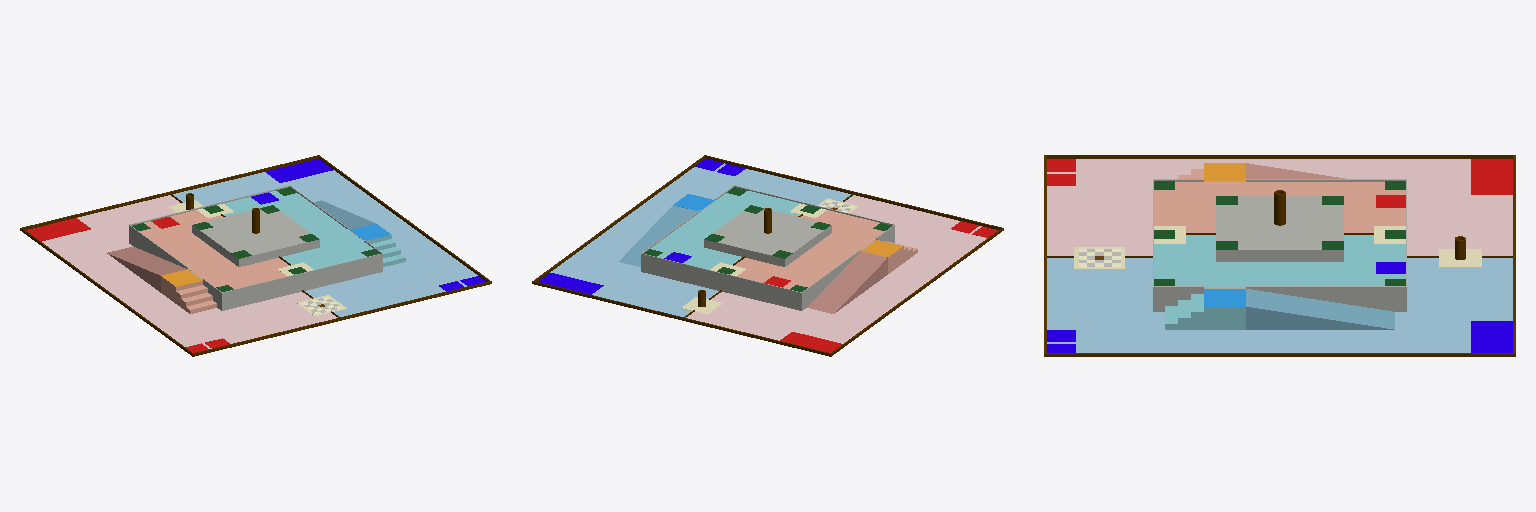
URDF robot description (robocon2027_field):
<?xml version="1.0"?>
<!-- GENERATED by scripts/generate_field.py - edit the script, not this file. -->
<robot name="robocon2027_field">
  <material name="brown"><color rgba="0.3922 0.2431 0.0000 1.0"/></material>
  <material name="grey"><color rgba="0.7451 0.7451 0.7255 1.0"/></material>
  <material name="grid_center"><color rgba="0.4706 0.2941 0.0784 1.0"/></material>
  <material name="grid_grey"><color rgba="0.8039 0.8039 0.7843 1.0"/></material>
  <material name="grid_light"><color rgba="1.0000 0.9882 0.8431 1.0"/></material>
  <material name="ground_blue"><color rgba="0.6667 0.8235 0.9020 1.0"/></material>
  <material name="ground_red"><color rgba="0.9412 0.8235 0.8235 1.0"/></material>
  <material name="l1_blue"><color rgba="0.5882 0.8431 0.8627 1.0"/></material>
  <material name="l1_red"><color rgba="0.9216 0.7059 0.6275 1.0"/></material>
  <material name="ramp_blue"><color rgba="0.5098 0.7059 0.7843 1.0"/></material>
  <material name="ramp_red"><color rgba="0.7843 0.5882 0.5490 1.0"/></material>
  <material name="shared"><color rgba="0.9608 0.9412 0.7843 1.0"/></material>
  <material name="spot"><color rgba="0.1569 0.3922 0.1961 1.0"/></material>
  <material name="stairs_blue"><color rgba="0.5882 0.8431 0.8627 1.0"/></material>
  <material name="stairs_red"><color rgba="0.9216 0.7059 0.6275 1.0"/></material>
  <material name="transfer_blue"><color rgba="0.2353 0.6667 0.9608 1.0"/></material>
  <material name="transfer_red"><color rgba="0.9608 0.6667 0.2353 1.0"/></material>
  <material name="zone_blue"><color rgba="0.1961 0.0000 1.0000 1.0"/></material>
  <material name="zone_red"><color rgba="0.8745 0.1333 0.1333 1.0"/></material>
  <link name="field">
    <visual name="ground_blue"><origin xyz="2.75 0 -0.01" rpy="0 0 0"/><geometry><box size="5.5 11 0.02"/></geometry><material name="ground_blue"/></visual>
    <visual name="ground_red"><origin xyz="-2.75 0 -0.01" rpy="0 0 0"/><geometry><box size="5.5 11 0.02"/></geometry><material name="ground_red"/></visual>
    <visual name="boundary_n"><origin xyz="0 5.525 0.05" rpy="0 0 0"/><geometry><box size="11.1 0.05 0.1"/></geometry><material name="brown"/></visual>
    <visual name="boundary_s"><origin xyz="0 -5.525 0.05" rpy="0 0 0"/><geometry><box size="11.1 0.05 0.1"/></geometry><material name="brown"/></visual>
    <visual name="boundary_e"><origin xyz="5.525 0 0.05" rpy="0 0 0"/><geometry><box size="0.05 11 0.1"/></geometry><material name="brown"/></visual>
    <visual name="boundary_w"><origin xyz="-5.525 0 0.05" rpy="0 0 0"/><geometry><box size="0.05 11 0.1"/></geometry><material name="brown"/></visual>
    <visual name="divider_ground_0"><origin xyz="0 -5.175 0.025" rpy="0 0 0"/><geometry><box size="0.03 0.65 0.05"/></geometry><material name="brown"/></visual>
    <visual name="divider_ground_1"><origin xyz="0 -3.325 0.025" rpy="0 0 0"/><geometry><box size="0.03 0.65 0.05"/></geometry><material name="brown"/></visual>
    <visual name="divider_ground_2"><origin xyz="0 3.375 0.025" rpy="0 0 0"/><geometry><box size="0.03 0.75 0.05"/></geometry><material name="brown"/></visual>
    <visual name="divider_ground_3"><origin xyz="0 5.125 0.025" rpy="0 0 0"/><geometry><box size="0.03 0.75 0.05"/></geometry><material name="brown"/></visual>
    <visual name="startretry_blue_0"><origin xyz="4.35 -5.15 0.001" rpy="0 0 0"/><geometry><box size="0.7 0.7 0.002"/></geometry><material name="zone_blue"/></visual>
    <visual name="startretry_blue_1"><origin xyz="5.15 -5.15 0.001" rpy="0 0 0"/><geometry><box size="0.7 0.7 0.002"/></geometry><material name="zone_blue"/></visual>
    <visual name="storage_blue"><origin xyz="4.5 5 0.001" rpy="0 0 0"/><geometry><box size="2 1 0.002"/></geometry><material name="zone_blue"/></visual>
    <visual name="startretry_red_0"><origin xyz="-4.35 -5.15 0.001" rpy="0 0 0"/><geometry><box size="0.7 0.7 0.002"/></geometry><material name="zone_red"/></visual>
    <visual name="startretry_red_1"><origin xyz="-5.15 -5.15 0.001" rpy="0 0 0"/><geometry><box size="0.7 0.7 0.002"/></geometry><material name="zone_red"/></visual>
    <visual name="storage_red"><origin xyz="-4.5 5 0.001" rpy="0 0 0"/><geometry><box size="2 1 0.002"/></geometry><material name="zone_red"/></visual>
    <visual name="ground_shared"><origin xyz="0 -4.25 0.001" rpy="0 0 0"/><geometry><box size="1.2 1.2 0.002"/></geometry><material name="shared"/></visual>
    <visual name="gsa_cell_11"><origin xyz="-0.4 -3.85 0.002" rpy="0 0 0"/><geometry><box size="0.196 0.196 0.002"/></geometry><material name="grid_light"/></visual>
    <visual name="gsa_cell_12"><origin xyz="-0.2 -3.85 0.002" rpy="0 0 0"/><geometry><box size="0.196 0.196 0.002"/></geometry><material name="grid_grey"/></visual>
    <visual name="gsa_cell_13"><origin xyz="0 -3.85 0.002" rpy="0 0 0"/><geometry><box size="0.196 0.196 0.002"/></geometry><material name="grid_light"/></visual>
    <visual name="gsa_cell_14"><origin xyz="0.2 -3.85 0.002" rpy="0 0 0"/><geometry><box size="0.196 0.196 0.002"/></geometry><material name="grid_grey"/></visual>
    <visual name="gsa_cell_15"><origin xyz="0.4 -3.85 0.002" rpy="0 0 0"/><geometry><box size="0.196 0.196 0.002"/></geometry><material name="grid_light"/></visual>
    <visual name="gsa_cell_21"><origin xyz="-0.4 -4.05 0.002" rpy="0 0 0"/><geometry><box size="0.196 0.196 0.002"/></geometry><material name="grid_grey"/></visual>
    <visual name="gsa_cell_22"><origin xyz="-0.2 -4.05 0.002" rpy="0 0 0"/><geometry><box size="0.196 0.196 0.002"/></geometry><material name="grid_light"/></visual>
    <visual name="gsa_cell_23"><origin xyz="0 -4.05 0.002" rpy="0 0 0"/><geometry><box size="0.196 0.196 0.002"/></geometry><material name="grid_grey"/></visual>
    <visual name="gsa_cell_24"><origin xyz="0.2 -4.05 0.002" rpy="0 0 0"/><geometry><box size="0.196 0.196 0.002"/></geometry><material name="grid_light"/></visual>
    <visual name="gsa_cell_25"><origin xyz="0.4 -4.05 0.002" rpy="0 0 0"/><geometry><box size="0.196 0.196 0.002"/></geometry><material name="grid_grey"/></visual>
    <visual name="gsa_cell_31"><origin xyz="-0.4 -4.25 0.002" rpy="0 0 0"/><geometry><box size="0.196 0.196 0.002"/></geometry><material name="grid_light"/></visual>
    <visual name="gsa_cell_32"><origin xyz="-0.2 -4.25 0.002" rpy="0 0 0"/><geometry><box size="0.196 0.196 0.002"/></geometry><material name="grid_grey"/></visual>
    <visual name="gsa_cell_33"><origin xyz="0 -4.25 0.002" rpy="0 0 0"/><geometry><box size="0.196 0.196 0.002"/></geometry><material name="grid_center"/></visual>
    <visual name="gsa_cell_34"><origin xyz="0.2 -4.25 0.002" rpy="0 0 0"/><geometry><box size="0.196 0.196 0.002"/></geometry><material name="grid_grey"/></visual>
    <visual name="gsa_cell_35"><origin xyz="0.4 -4.25 0.002" rpy="0 0 0"/><geometry><box size="0.196 0.196 0.002"/></geometry><material name="grid_light"/></visual>
    <visual name="gsa_cell_41"><origin xyz="-0.4 -4.45 0.002" rpy="0 0 0"/><geometry><box size="0.196 0.196 0.002"/></geometry><material name="grid_grey"/></visual>
    <visual name="gsa_cell_42"><origin xyz="-0.2 -4.45 0.002" rpy="0 0 0"/><geometry><box size="0.196 0.196 0.002"/></geometry><material name="grid_light"/></visual>
    <visual name="gsa_cell_43"><origin xyz="0 -4.45 0.002" rpy="0 0 0"/><geometry><box size="0.196 0.196 0.002"/></geometry><material name="grid_grey"/></visual>
    <visual name="gsa_cell_44"><origin xyz="0.2 -4.45 0.002" rpy="0 0 0"/><geometry><box size="0.196 0.196 0.002"/></geometry><material name="grid_light"/></visual>
    <visual name="gsa_cell_45"><origin xyz="0.4 -4.45 0.002" rpy="0 0 0"/><geometry><box size="0.196 0.196 0.002"/></geometry><material name="grid_grey"/></visual>
    <visual name="gsa_cell_51"><origin xyz="-0.4 -4.65 0.002" rpy="0 0 0"/><geometry><box size="0.196 0.196 0.002"/></geometry><material name="grid_light"/></visual>
    <visual name="gsa_cell_52"><origin xyz="-0.2 -4.65 0.002" rpy="0 0 0"/><geometry><box size="0.196 0.196 0.002"/></geometry><material name="grid_grey"/></visual>
    <visual name="gsa_cell_53"><origin xyz="0 -4.65 0.002" rpy="0 0 0"/><geometry><box size="0.196 0.196 0.002"/></geometry><material name="grid_light"/></visual>
    <visual name="gsa_cell_54"><origin xyz="0.2 -4.65 0.002" rpy="0 0 0"/><geometry><box size="0.196 0.196 0.002"/></geometry><material name="grid_grey"/></visual>
    <visual name="gsa_cell_55"><origin xyz="0.4 -4.65 0.002" rpy="0 0 0"/><geometry><box size="0.196 0.196 0.002"/></geometry><material name="grid_light"/></visual>
    <visual name="mustika_area"><origin xyz="0 4.25 0.001" rpy="0 0 0"/><geometry><box size="1 1 0.002"/></geometry><material name="shared"/></visual>
    <visual name="mustika_pillar_body"><origin xyz="0 4.25 0.2" rpy="0 0 0"/><geometry><cylinder radius="0.135" length="0.4"/></geometry><material name="brown"/></visual>
    <visual name="mustika_pillar_rim_00"><origin xyz="0.1125 4.25 0.45" rpy="0 0 0"/><geometry><box size="0.045 0.03724 0.1"/></geometry><material name="brown"/></visual>
    <visual name="mustika_pillar_rim_01"><origin xyz="0.10867 4.27912 0.45" rpy="0 0 0.2618"/><geometry><box size="0.045 0.03724 0.1"/></geometry><material name="brown"/></visual>
    <visual name="mustika_pillar_rim_02"><origin xyz="0.09743 4.30625 0.45" rpy="0 0 0.5236"/><geometry><box size="0.045 0.03724 0.1"/></geometry><material name="brown"/></visual>
    <visual name="mustika_pillar_rim_03"><origin xyz="0.07955 4.32955 0.45" rpy="0 0 0.7854"/><geometry><box size="0.045 0.03724 0.1"/></geometry><material name="brown"/></visual>
    <visual name="mustika_pillar_rim_04"><origin xyz="0.05625 4.34743 0.45" rpy="0 0 1.0472"/><geometry><box size="0.045 0.03724 0.1"/></geometry><material name="brown"/></visual>
    <visual name="mustika_pillar_rim_05"><origin xyz="0.02912 4.35867 0.45" rpy="0 0 1.309"/><geometry><box size="0.045 0.03724 0.1"/></geometry><material name="brown"/></visual>
    <visual name="mustika_pillar_rim_06"><origin xyz="0 4.3625 0.45" rpy="0 0 1.5708"/><geometry><box size="0.045 0.03724 0.1"/></geometry><material name="brown"/></visual>
    <visual name="mustika_pillar_rim_07"><origin xyz="-0.02912 4.35867 0.45" rpy="0 0 1.8326"/><geometry><box size="0.045 0.03724 0.1"/></geometry><material name="brown"/></visual>
    <visual name="mustika_pillar_rim_08"><origin xyz="-0.05625 4.34743 0.45" rpy="0 0 2.0944"/><geometry><box size="0.045 0.03724 0.1"/></geometry><material name="brown"/></visual>
    <visual name="mustika_pillar_rim_09"><origin xyz="-0.07955 4.32955 0.45" rpy="0 0 2.35619"/><geometry><box size="0.045 0.03724 0.1"/></geometry><material name="brown"/></visual>
    <visual name="mustika_pillar_rim_10"><origin xyz="-0.09743 4.30625 0.45" rpy="0 0 2.61799"/><geometry><box size="0.045 0.03724 0.1"/></geometry><material name="brown"/></visual>
    <visual name="mustika_pillar_rim_11"><origin xyz="-0.10867 4.27912 0.45" rpy="0 0 2.87979"/><geometry><box size="0.045 0.03724 0.1"/></geometry><material name="brown"/></visual>
    <visual name="mustika_pillar_rim_12"><origin xyz="-0.1125 4.25 0.45" rpy="0 0 3.14159"/><geometry><box size="0.045 0.03724 0.1"/></geometry><material name="brown"/></visual>
    <visual name="mustika_pillar_rim_13"><origin xyz="-0.10867 4.22088 0.45" rpy="0 0 3.40339"/><geometry><box size="0.045 0.03724 0.1"/></geometry><material name="brown"/></visual>
    <visual name="mustika_pillar_rim_14"><origin xyz="-0.09743 4.19375 0.45" rpy="0 0 3.66519"/><geometry><box size="0.045 0.03724 0.1"/></geometry><material name="brown"/></visual>
    <visual name="mustika_pillar_rim_15"><origin xyz="-0.07955 4.17045 0.45" rpy="0 0 3.92699"/><geometry><box size="0.045 0.03724 0.1"/></geometry><material name="brown"/></visual>
    <visual name="mustika_pillar_rim_16"><origin xyz="-0.05625 4.15257 0.45" rpy="0 0 4.18879"/><geometry><box size="0.045 0.03724 0.1"/></geometry><material name="brown"/></visual>
    <visual name="mustika_pillar_rim_17"><origin xyz="-0.02912 4.14133 0.45" rpy="0 0 4.45059"/><geometry><box size="0.045 0.03724 0.1"/></geometry><material name="brown"/></visual>
    <visual name="mustika_pillar_rim_18"><origin xyz="0 4.1375 0.45" rpy="0 0 4.71239"/><geometry><box size="0.045 0.03724 0.1"/></geometry><material name="brown"/></visual>
    <visual name="mustika_pillar_rim_19"><origin xyz="0.02912 4.14133 0.45" rpy="0 0 4.97419"/><geometry><box size="0.045 0.03724 0.1"/></geometry><material name="brown"/></visual>
    <visual name="mustika_pillar_rim_20"><origin xyz="0.05625 4.15257 0.45" rpy="0 0 5.23599"/><geometry><box size="0.045 0.03724 0.1"/></geometry><material name="brown"/></visual>
    <visual name="mustika_pillar_rim_21"><origin xyz="0.07955 4.17045 0.45" rpy="0 0 5.49779"/><geometry><box size="0.045 0.03724 0.1"/></geometry><material name="brown"/></visual>
    <visual name="mustika_pillar_rim_22"><origin xyz="0.09743 4.19375 0.45" rpy="0 0 5.75959"/><geometry><box size="0.045 0.03724 0.1"/></geometry><material name="brown"/></visual>
    <visual name="mustika_pillar_rim_23"><origin xyz="0.10867 4.22088 0.45" rpy="0 0 6.02139"/><geometry><box size="0.045 0.03724 0.1"/></geometry><material name="brown"/></visual>
    <visual name="l1_platform"><origin xyz="0 0 0.3" rpy="0 0 0"/><geometry><box size="6 6 0.6"/></geometry><material name="grey"/></visual>
    <visual name="l1_floor_blue"><origin xyz="1.485 0 0.601" rpy="0 0 0"/><geometry><box size="2.97 5.94 0.002"/></geometry><material name="l1_blue"/></visual>
    <visual name="l1_retry_blue"><origin xyz="1.85 2.62 0.602" rpy="0 0 0"/><geometry><box size="0.7 0.7 0.002"/></geometry><material name="zone_blue"/></visual>
    <visual name="l1_floor_red"><origin xyz="-1.485 0 0.601" rpy="0 0 0"/><geometry><box size="2.97 5.94 0.002"/></geometry><material name="l1_red"/></visual>
    <visual name="l1_retry_red"><origin xyz="-1.85 2.62 0.602" rpy="0 0 0"/><geometry><box size="0.7 0.7 0.002"/></geometry><material name="zone_red"/></visual>
    <visual name="l1_shared_1"><origin xyz="0 2.595 0.602" rpy="0 0 0"/><geometry><box size="1 0.75 0.002"/></geometry><material name="shared"/></visual>
    <visual name="l1_spot_center_1"><origin xyz="0 2.72 0.603" rpy="0 0 0"/><geometry><box size="0.5 0.5 0.002"/></geometry><material name="spot"/></visual>
    <visual name="l1_spot_1_1"><origin xyz="2.72 2.72 0.603" rpy="0 0 0"/><geometry><box size="0.5 0.5 0.002"/></geometry><material name="spot"/></visual>
    <visual name="l1_spot_-1_1"><origin xyz="-2.72 2.72 0.603" rpy="0 0 0"/><geometry><box size="0.5 0.5 0.002"/></geometry><material name="spot"/></visual>
    <visual name="l1_shared_-1"><origin xyz="0 -2.595 0.602" rpy="0 0 0"/><geometry><box size="1 0.75 0.002"/></geometry><material name="shared"/></visual>
    <visual name="l1_spot_center_-1"><origin xyz="0 -2.72 0.603" rpy="0 0 0"/><geometry><box size="0.5 0.5 0.002"/></geometry><material name="spot"/></visual>
    <visual name="l1_spot_1_-1"><origin xyz="2.72 -2.72 0.603" rpy="0 0 0"/><geometry><box size="0.5 0.5 0.002"/></geometry><material name="spot"/></visual>
    <visual name="l1_spot_-1_-1"><origin xyz="-2.72 -2.72 0.603" rpy="0 0 0"/><geometry><box size="0.5 0.5 0.002"/></geometry><material name="spot"/></visual>
    <visual name="l1_barrier_n"><origin xyz="0 2.985 0.625" rpy="0 0 0"/><geometry><box size="6 0.03 0.05"/></geometry><material name="grey"/></visual>
    <visual name="l1_barrier_s"><origin xyz="0 -2.985 0.625" rpy="0 0 0"/><geometry><box size="6 0.03 0.05"/></geometry><material name="grey"/></visual>
    <visual name="l1_barrier_e0"><origin xyz="2.985 -2.385 0.625" rpy="0 0 0"/><geometry><box size="0.03 1.17 0.05"/></geometry><material name="grey"/></visual>
    <visual name="l1_barrier_e1"><origin xyz="2.985 1.085 0.625" rpy="0 0 0"/><geometry><box size="0.03 3.77 0.05"/></geometry><material name="grey"/></visual>
    <visual name="l1_barrier_w0"><origin xyz="-2.985 -2.385 0.625" rpy="0 0 0"/><geometry><box size="0.03 1.17 0.05"/></geometry><material name="grey"/></visual>
    <visual name="l1_barrier_w1"><origin xyz="-2.985 1.085 0.625" rpy="0 0 0"/><geometry><box size="0.03 3.77 0.05"/></geometry><material name="grey"/></visual>
    <visual name="l1_divider_0"><origin xyz="0 -1.86 0.625" rpy="0 0 0"/><geometry><box size="0.03 0.72 0.05"/></geometry><material name="brown"/></visual>
    <visual name="l1_divider_1"><origin xyz="0 1.86 0.625" rpy="0 0 0"/><geometry><box size="0.03 0.72 0.05"/></geometry><material name="brown"/></visual>
    <visual name="stair_blue_1"><origin xyz="3.5 -2.55 0.075" rpy="0 0 0"/><geometry><box size="1 0.3 0.15"/></geometry><material name="stairs_blue"/></visual>
    <visual name="stair_blue_2"><origin xyz="3.5 -2.25 0.15" rpy="0 0 0"/><geometry><box size="1 0.3 0.3"/></geometry><material name="stairs_blue"/></visual>
    <visual name="stair_blue_3"><origin xyz="3.5 -1.95 0.225" rpy="0 0 0"/><geometry><box size="1 0.3 0.45"/></geometry><material name="stairs_blue"/></visual>
    <visual name="transfer_body_blue"><origin xyz="3.5 -1.3 0.3" rpy="0 0 0"/><geometry><box size="1 1 0.6"/></geometry><material name="stairs_blue"/></visual>
    <visual name="transfer_blue"><origin xyz="3.5 -1.3 0.601" rpy="0 0 0"/><geometry><box size="1 1 0.002"/></geometry><material name="transfer_blue"/></visual>
    <visual name="ramp_blue"><origin xyz="3.5 0.95 0" rpy="0 0 0"/><geometry><mesh filename="package://robocon2027_field/meshes/ramp_wedge.stl"/></geometry><material name="ramp_blue"/></visual>
    <visual name="stair_red_1"><origin xyz="-3.5 -2.55 0.075" rpy="0 0 0"/><geometry><box size="1 0.3 0.15"/></geometry><material name="stairs_red"/></visual>
    <visual name="stair_red_2"><origin xyz="-3.5 -2.25 0.15" rpy="0 0 0"/><geometry><box size="1 0.3 0.3"/></geometry><material name="stairs_red"/></visual>
    <visual name="stair_red_3"><origin xyz="-3.5 -1.95 0.225" rpy="0 0 0"/><geometry><box size="1 0.3 0.45"/></geometry><material name="stairs_red"/></visual>
    <visual name="transfer_body_red"><origin xyz="-3.5 -1.3 0.3" rpy="0 0 0"/><geometry><box size="1 1 0.6"/></geometry><material name="stairs_red"/></visual>
    <visual name="transfer_red"><origin xyz="-3.5 -1.3 0.601" rpy="0 0 0"/><geometry><box size="1 1 0.002"/></geometry><material name="transfer_red"/></visual>
    <visual name="ramp_red"><origin xyz="-3.5 0.95 0" rpy="0 0 0"/><geometry><mesh filename="package://robocon2027_field/meshes/ramp_wedge.stl"/></geometry><material name="ramp_red"/></visual>
    <visual name="l2_platform"><origin xyz="0 0 0.75" rpy="0 0 0"/><geometry><box size="3 3 0.3"/></geometry><material name="grey"/></visual>
    <visual name="l2_spot_1_1"><origin xyz="1.25 1.25 0.901" rpy="0 0 0"/><geometry><box size="0.5 0.5 0.002"/></geometry><material name="spot"/></visual>
    <visual name="l2_spot_1_-1"><origin xyz="1.25 -1.25 0.901" rpy="0 0 0"/><geometry><box size="0.5 0.5 0.002"/></geometry><material name="spot"/></visual>
    <visual name="l2_spot_-1_1"><origin xyz="-1.25 1.25 0.901" rpy="0 0 0"/><geometry><box size="0.5 0.5 0.002"/></geometry><material name="spot"/></visual>
    <visual name="l2_spot_-1_-1"><origin xyz="-1.25 -1.25 0.901" rpy="0 0 0"/><geometry><box size="0.5 0.5 0.002"/></geometry><material name="spot"/></visual>
    <visual name="central_pillar_body"><origin xyz="0 0 1.25" rpy="0 0 0"/><geometry><cylinder radius="0.135" length="0.7"/></geometry><material name="brown"/></visual>
    <visual name="central_pillar_rim_00"><origin xyz="0.1125 0 1.65" rpy="0 0 0"/><geometry><box size="0.045 0.03724 0.1"/></geometry><material name="brown"/></visual>
    <visual name="central_pillar_rim_01"><origin xyz="0.10867 0.02912 1.65" rpy="0 0 0.2618"/><geometry><box size="0.045 0.03724 0.1"/></geometry><material name="brown"/></visual>
    <visual name="central_pillar_rim_02"><origin xyz="0.09743 0.05625 1.65" rpy="0 0 0.5236"/><geometry><box size="0.045 0.03724 0.1"/></geometry><material name="brown"/></visual>
    <visual name="central_pillar_rim_03"><origin xyz="0.07955 0.07955 1.65" rpy="0 0 0.7854"/><geometry><box size="0.045 0.03724 0.1"/></geometry><material name="brown"/></visual>
    <visual name="central_pillar_rim_04"><origin xyz="0.05625 0.09743 1.65" rpy="0 0 1.0472"/><geometry><box size="0.045 0.03724 0.1"/></geometry><material name="brown"/></visual>
    <visual name="central_pillar_rim_05"><origin xyz="0.02912 0.10867 1.65" rpy="0 0 1.309"/><geometry><box size="0.045 0.03724 0.1"/></geometry><material name="brown"/></visual>
    <visual name="central_pillar_rim_06"><origin xyz="0 0.1125 1.65" rpy="0 0 1.5708"/><geometry><box size="0.045 0.03724 0.1"/></geometry><material name="brown"/></visual>
    <visual name="central_pillar_rim_07"><origin xyz="-0.02912 0.10867 1.65" rpy="0 0 1.8326"/><geometry><box size="0.045 0.03724 0.1"/></geometry><material name="brown"/></visual>
    <visual name="central_pillar_rim_08"><origin xyz="-0.05625 0.09743 1.65" rpy="0 0 2.0944"/><geometry><box size="0.045 0.03724 0.1"/></geometry><material name="brown"/></visual>
    <visual name="central_pillar_rim_09"><origin xyz="-0.07955 0.07955 1.65" rpy="0 0 2.35619"/><geometry><box size="0.045 0.03724 0.1"/></geometry><material name="brown"/></visual>
    <visual name="central_pillar_rim_10"><origin xyz="-0.09743 0.05625 1.65" rpy="0 0 2.61799"/><geometry><box size="0.045 0.03724 0.1"/></geometry><material name="brown"/></visual>
    <visual name="central_pillar_rim_11"><origin xyz="-0.10867 0.02912 1.65" rpy="0 0 2.87979"/><geometry><box size="0.045 0.03724 0.1"/></geometry><material name="brown"/></visual>
    <visual name="central_pillar_rim_12"><origin xyz="-0.1125 0 1.65" rpy="0 0 3.14159"/><geometry><box size="0.045 0.03724 0.1"/></geometry><material name="brown"/></visual>
    <visual name="central_pillar_rim_13"><origin xyz="-0.10867 -0.02912 1.65" rpy="0 0 3.40339"/><geometry><box size="0.045 0.03724 0.1"/></geometry><material name="brown"/></visual>
    <visual name="central_pillar_rim_14"><origin xyz="-0.09743 -0.05625 1.65" rpy="0 0 3.66519"/><geometry><box size="0.045 0.03724 0.1"/></geometry><material name="brown"/></visual>
    <visual name="central_pillar_rim_15"><origin xyz="-0.07955 -0.07955 1.65" rpy="0 0 3.92699"/><geometry><box size="0.045 0.03724 0.1"/></geometry><material name="brown"/></visual>
    <visual name="central_pillar_rim_16"><origin xyz="-0.05625 -0.09743 1.65" rpy="0 0 4.18879"/><geometry><box size="0.045 0.03724 0.1"/></geometry><material name="brown"/></visual>
    <visual name="central_pillar_rim_17"><origin xyz="-0.02912 -0.10867 1.65" rpy="0 0 4.45059"/><geometry><box size="0.045 0.03724 0.1"/></geometry><material name="brown"/></visual>
    <visual name="central_pillar_rim_18"><origin xyz="0 -0.1125 1.65" rpy="0 0 4.71239"/><geometry><box size="0.045 0.03724 0.1"/></geometry><material name="brown"/></visual>
    <visual name="central_pillar_rim_19"><origin xyz="0.02912 -0.10867 1.65" rpy="0 0 4.97419"/><geometry><box size="0.045 0.03724 0.1"/></geometry><material name="brown"/></visual>
    <visual name="central_pillar_rim_20"><origin xyz="0.05625 -0.09743 1.65" rpy="0 0 5.23599"/><geometry><box size="0.045 0.03724 0.1"/></geometry><material name="brown"/></visual>
    <visual name="central_pillar_rim_21"><origin xyz="0.07955 -0.07955 1.65" rpy="0 0 5.49779"/><geometry><box size="0.045 0.03724 0.1"/></geometry><material name="brown"/></visual>
    <visual name="central_pillar_rim_22"><origin xyz="0.09743 -0.05625 1.65" rpy="0 0 5.75959"/><geometry><box size="0.045 0.03724 0.1"/></geometry><material name="brown"/></visual>
    <visual name="central_pillar_rim_23"><origin xyz="0.10867 -0.02912 1.65" rpy="0 0 6.02139"/><geometry><box size="0.045 0.03724 0.1"/></geometry><material name="brown"/></visual>
  </link>
</robot>

--- Render facts (derived) ---
Views: 3 orthographic renders of the robot side by side, from view 1: azimuth 30°, elevation 25°; view 2: azimuth 150°, elevation 25°; view 3: azimuth 270°, elevation 25°.
Robot: robocon2027_field — 1 links, 0 joints (none); root link field; default pose: every joint at zero.
Visible links, largest first — view 1: field; view 2: field; view 3: field.
Link boxes in pixels (box(x1,y1,x2,y2)): field: box(20, 155, 491, 356); field: box(532, 155, 1003, 356); field: box(1044, 155, 1515, 356).
Size in the robot's own frame: 11.1 by 11.1 by 1.72 metres.
Meshes: 1 distinct files referenced, 2 mesh visuals loaded (1 ASCII STL).
